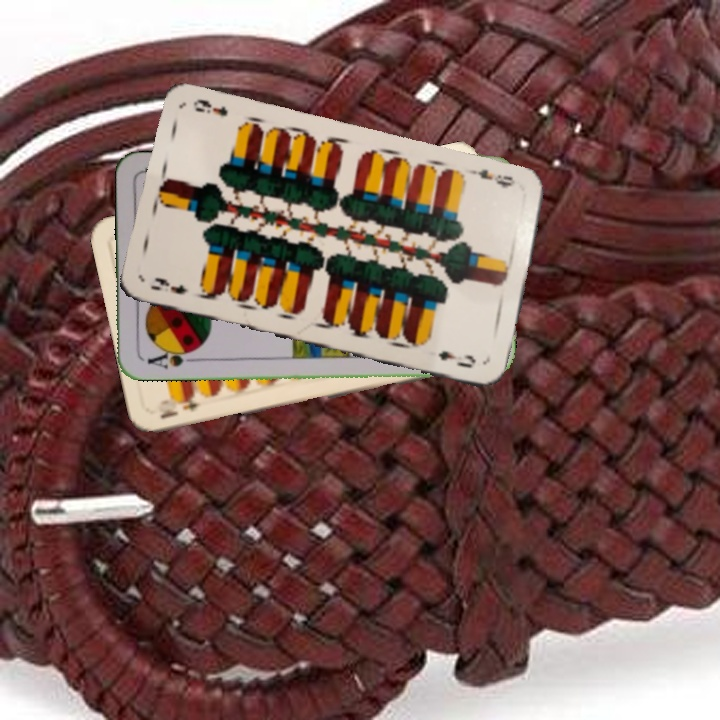E10: (156, 396, 204, 422)
E9: (468, 165, 518, 191), (146, 273, 191, 297)
SA: (143, 345, 199, 372)
